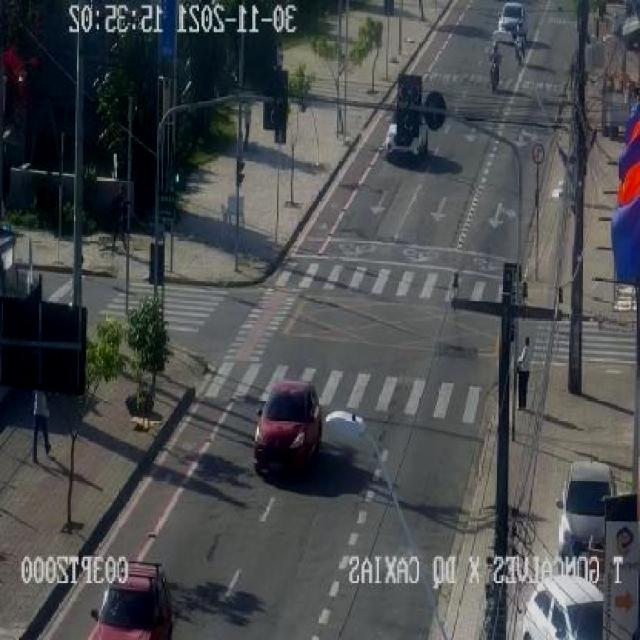Car: (243, 368, 329, 476), (505, 564, 612, 640), (553, 447, 623, 561), (75, 552, 163, 640), (377, 116, 434, 170), (492, 2, 534, 36)
Cycle: (483, 30, 508, 88), (509, 24, 536, 59)
